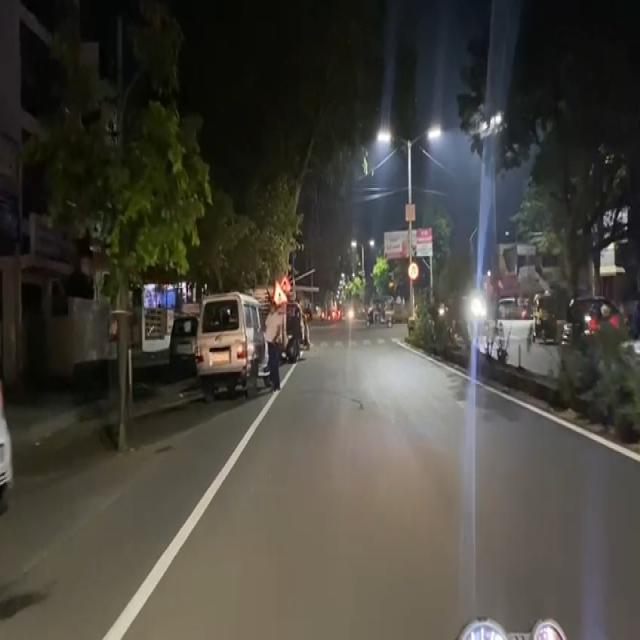bien_cam: (273, 280, 288, 304), (407, 261, 419, 281)
